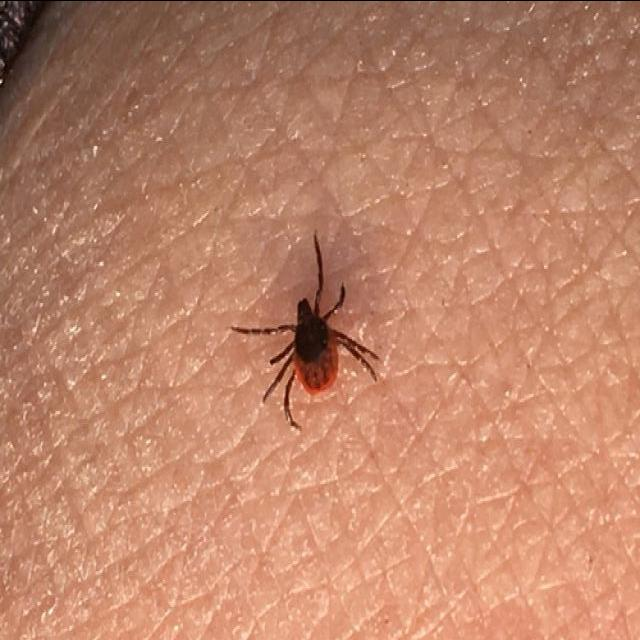Ixodes Ricinus-F: (230, 230, 380, 432)
